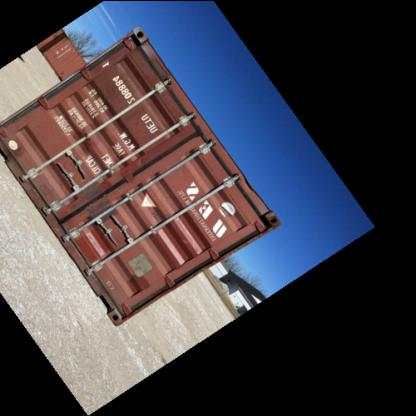Damage: (78, 176, 118, 224), (241, 168, 261, 197), (214, 204, 236, 220), (131, 29, 149, 47), (136, 156, 154, 172), (182, 228, 198, 246), (104, 279, 120, 296)
